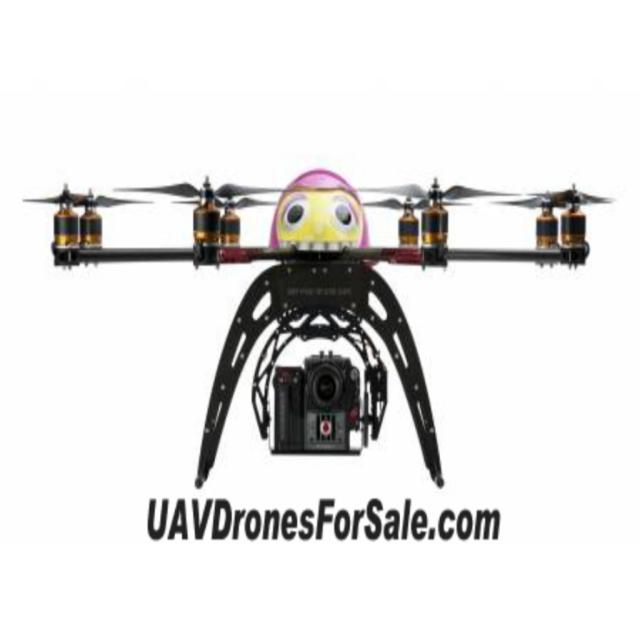Toy: (20, 173, 616, 491)
